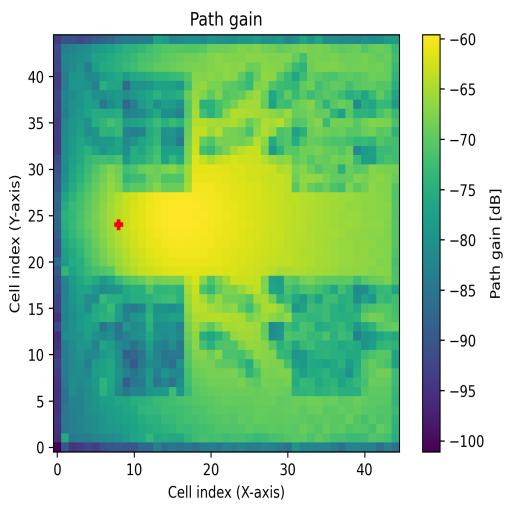Concrete: (292, 72, 369, 193)
Glass: (122, 72, 192, 192)
Metal: (291, 276, 361, 396)
Wood: (117, 276, 183, 394)
